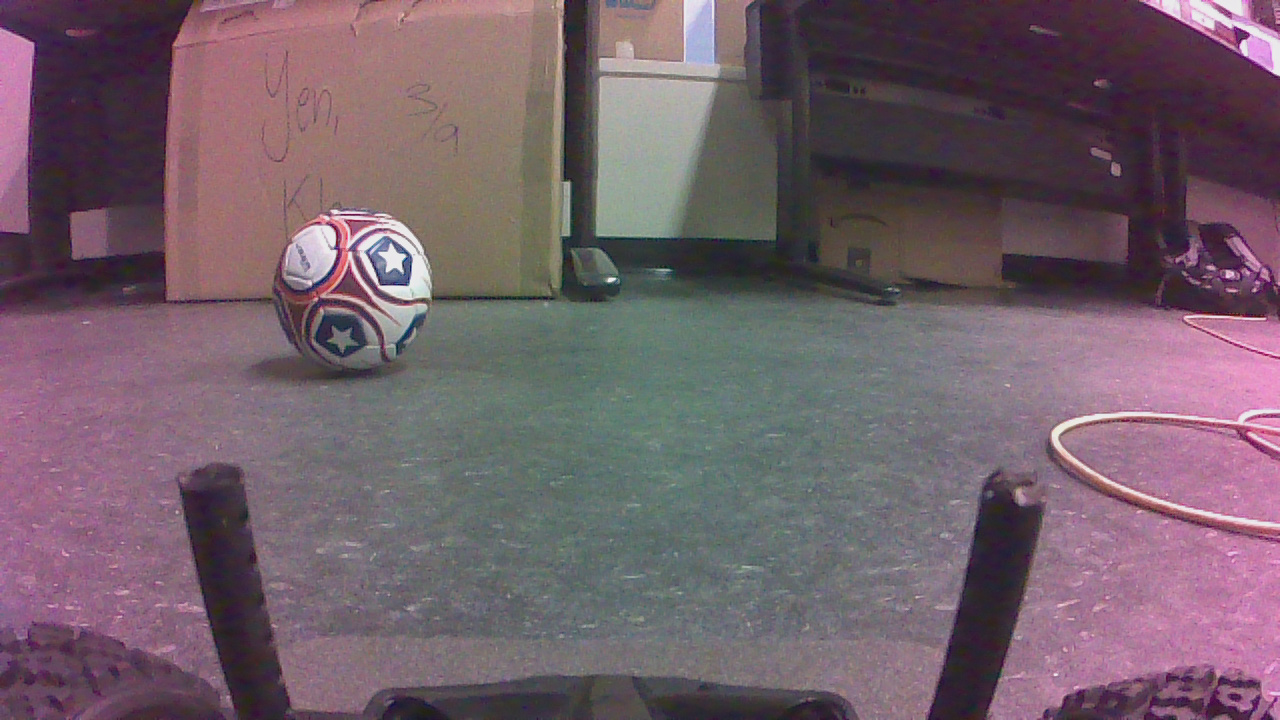ball: (270, 213, 434, 384)
